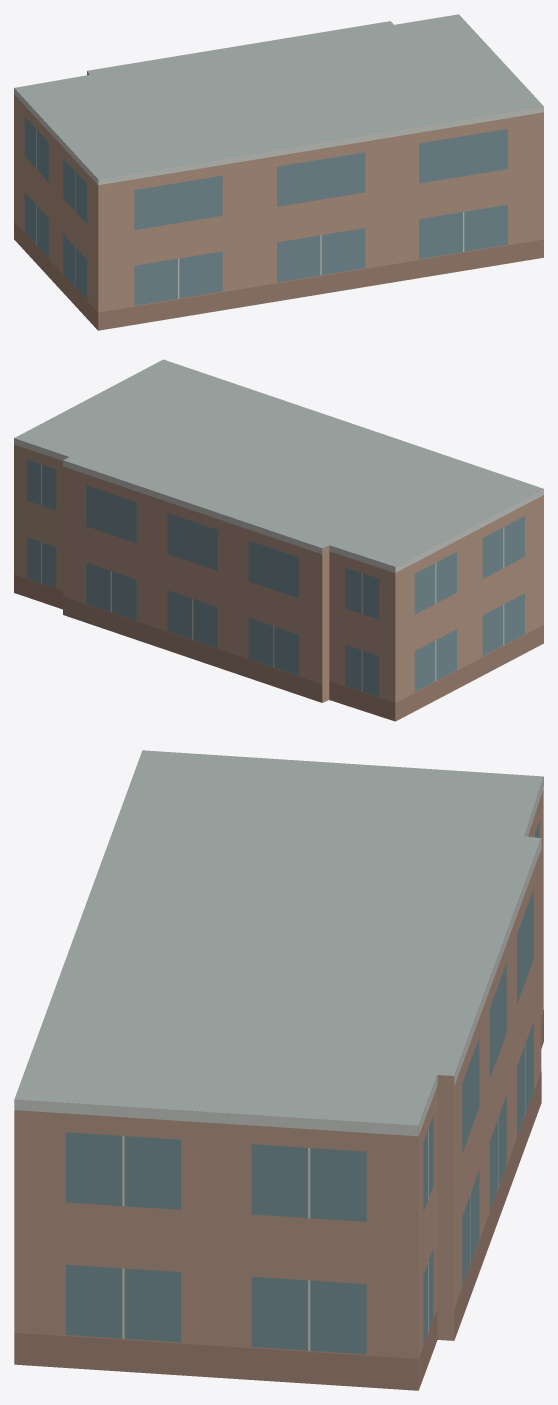
Rendered from survey-upis-32621628.glb.
3 renders of one model, top to bottom at view 1: azimuth 30°, elevation 25°; view 2: azimuth 150°, elevation 25°; view 3: azimuth 270°, elevation 25°, orthographic. The views are drawn at different scales.
Parts seen in each view (by area): view 1: survey-upis-32621628.tmp; view 2: survey-upis-32621628.tmp; view 3: survey-upis-32621628.tmp.
Part boxes in pixels (x1,y1,x2,y2): survey-upis-32621628.tmp: (14,14,543,330); survey-upis-32621628.tmp: (14,359,543,721); survey-upis-32621628.tmp: (14,750,543,1390).
Size of the model in its own units: 18.55 by 6.1 by 11.06.
